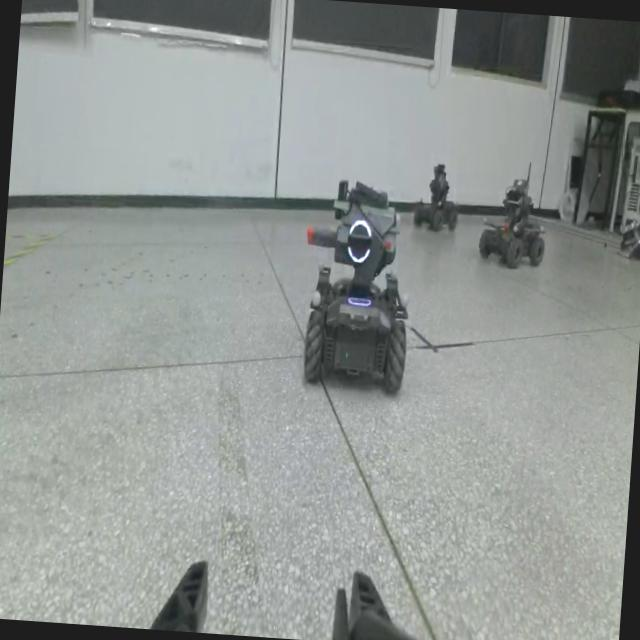s1: (288, 148, 428, 398), (474, 168, 552, 274), (413, 164, 462, 242)
